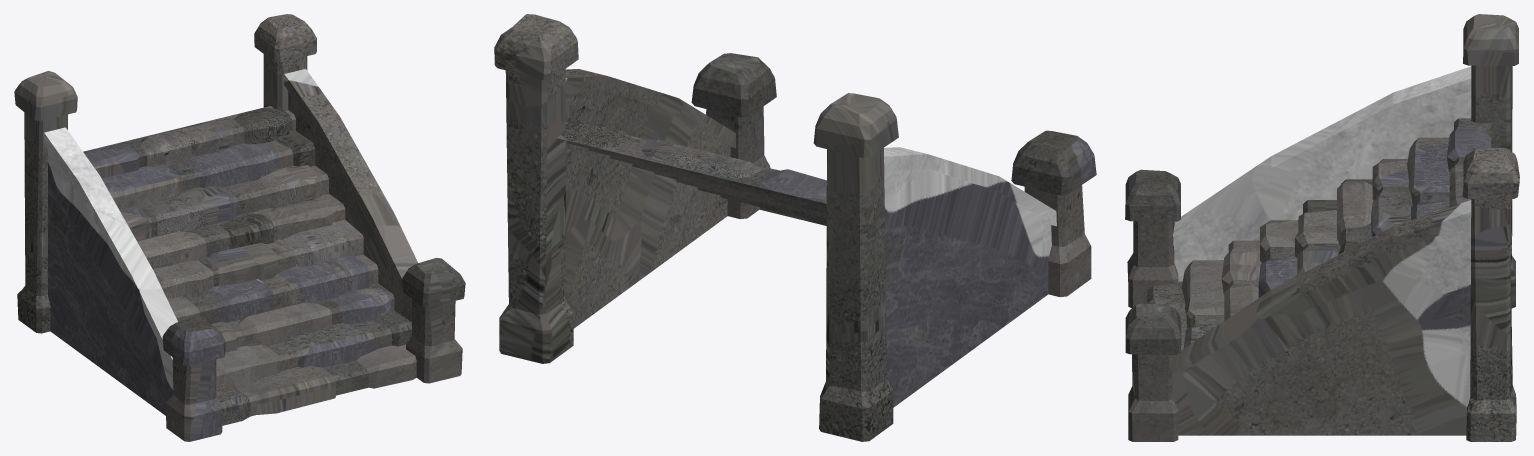
File: stair_3.fbx
3 renders of one model, left to right at view 1: azimuth 30°, elevation 25°; view 2: azimuth 150°, elevation 25°; view 3: azimuth 270°, elevation 25°, orthographic. The views are drawn at different scales.
Visible parts, largest first — view 1: stair_3; view 2: stair_3; view 3: stair_3.
Boxes of the visible parts, x1,y1,x2,y2 form: stair_3: (14, 14, 465, 441); stair_3: (494, 14, 1096, 441); stair_3: (1125, 14, 1519, 441).
Size of the model in its own units: 3.31 by 2.71 by 3.51.
Materials: 1 (1 with a texture image).
